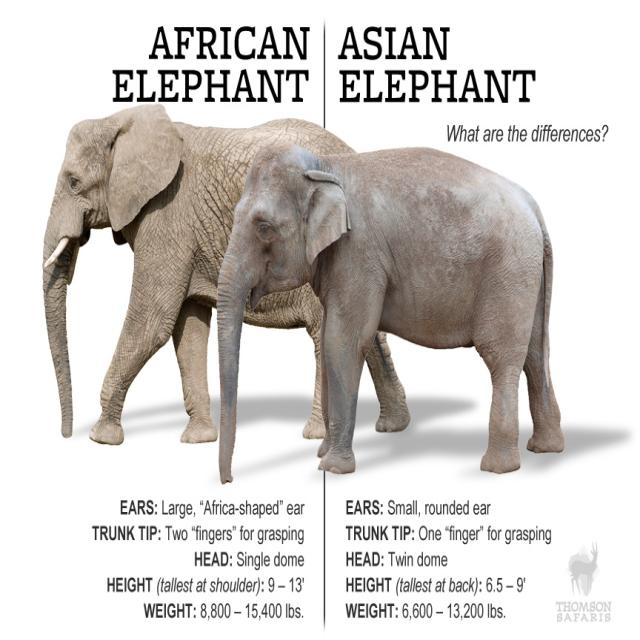Elephant: (206, 138, 566, 476), (39, 104, 353, 452)
